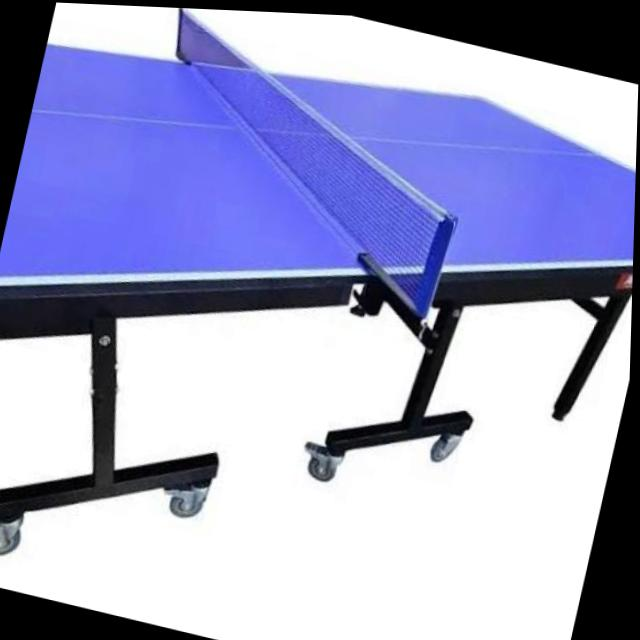TT Net: (172, 8, 463, 333)
TT Table: (0, 43, 636, 282)
